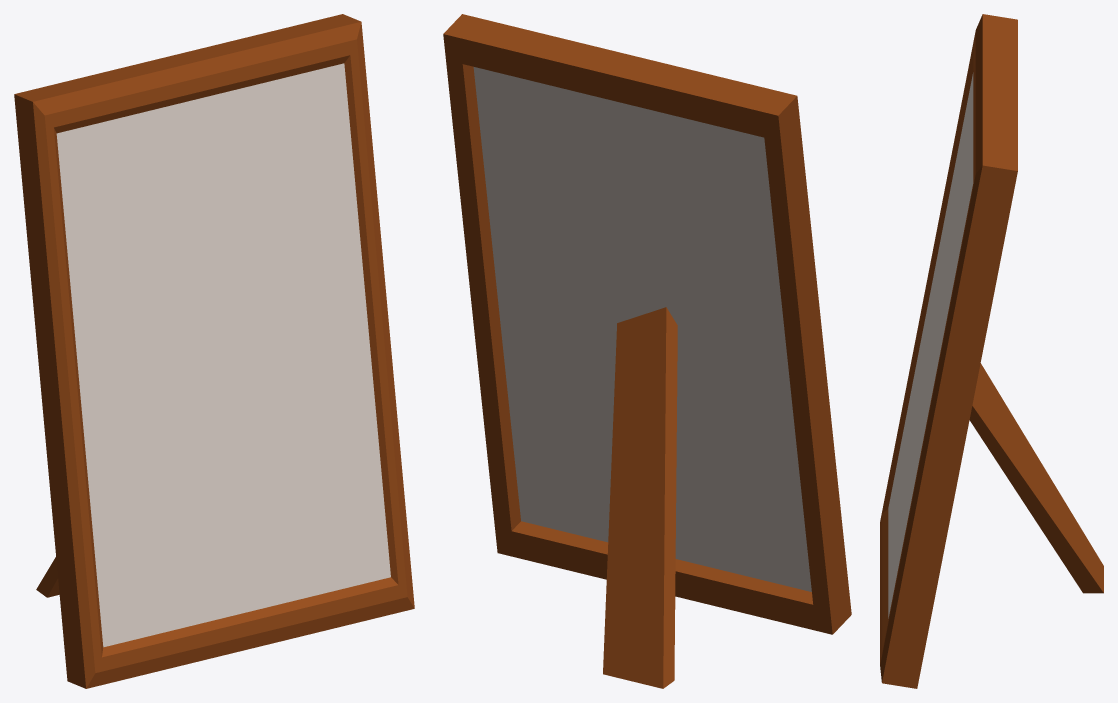
Rendered from picture_frame.glb.
3 views of the same model, side by side, from view 1: azimuth 30°, elevation 25°; view 2: azimuth 150°, elevation 25°; view 3: azimuth 270°, elevation 25° (orthographic). The views are drawn at different scales.
Parts seen in each view (by area): view 1: Model; view 2: Model; view 3: Model.
Part boxes in pixels (x1=…): Model: x1=14, y1=14, x2=414, y2=688; Model: x1=443, y1=14, x2=851, y2=688; Model: x1=880, y1=14, x2=1103, y2=688.
Bounding box in the file's own units: 1 × 1.61 × 0.6242.
